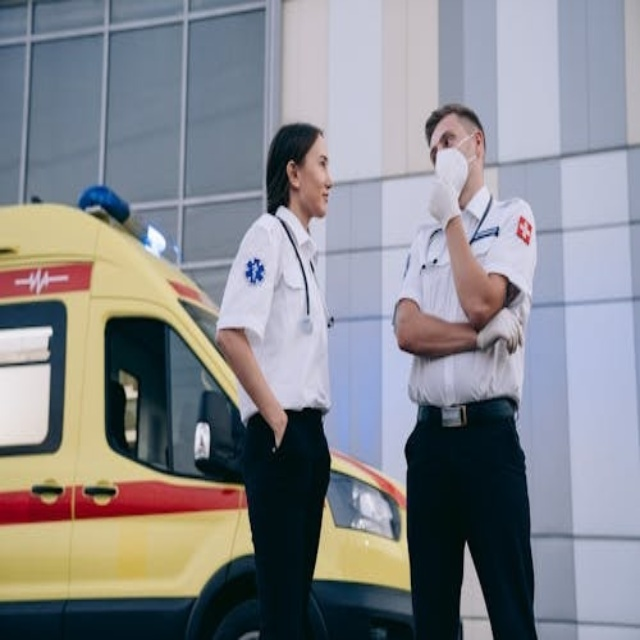Guantes: (477, 304, 525, 355), (429, 177, 462, 231)
Mascara: (432, 136, 474, 214)
Sin_gafas: (431, 121, 457, 158), (311, 146, 332, 171)
Sin_guantes: (267, 408, 288, 452)
Sin_mascara: (310, 179, 334, 215)
